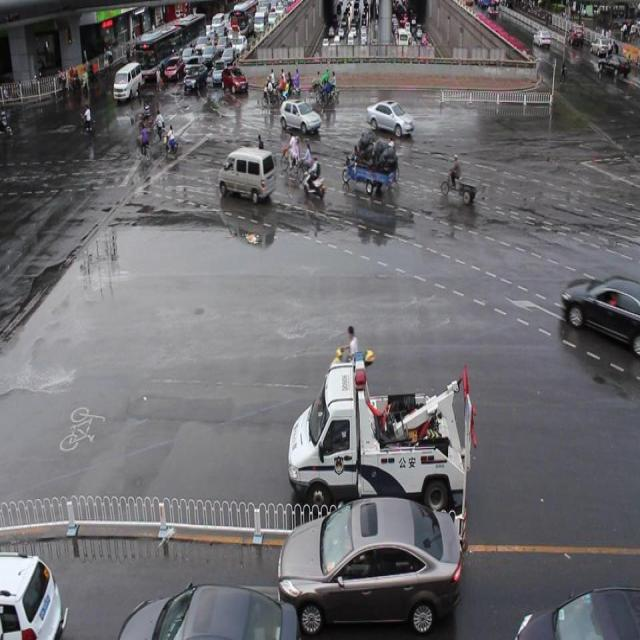car: (288, 373, 473, 506), (275, 508, 464, 636), (117, 573, 308, 640), (564, 267, 640, 364), (223, 146, 273, 214), (368, 97, 416, 146), (280, 96, 322, 134), (112, 63, 144, 101), (219, 61, 249, 98), (182, 64, 211, 100)
